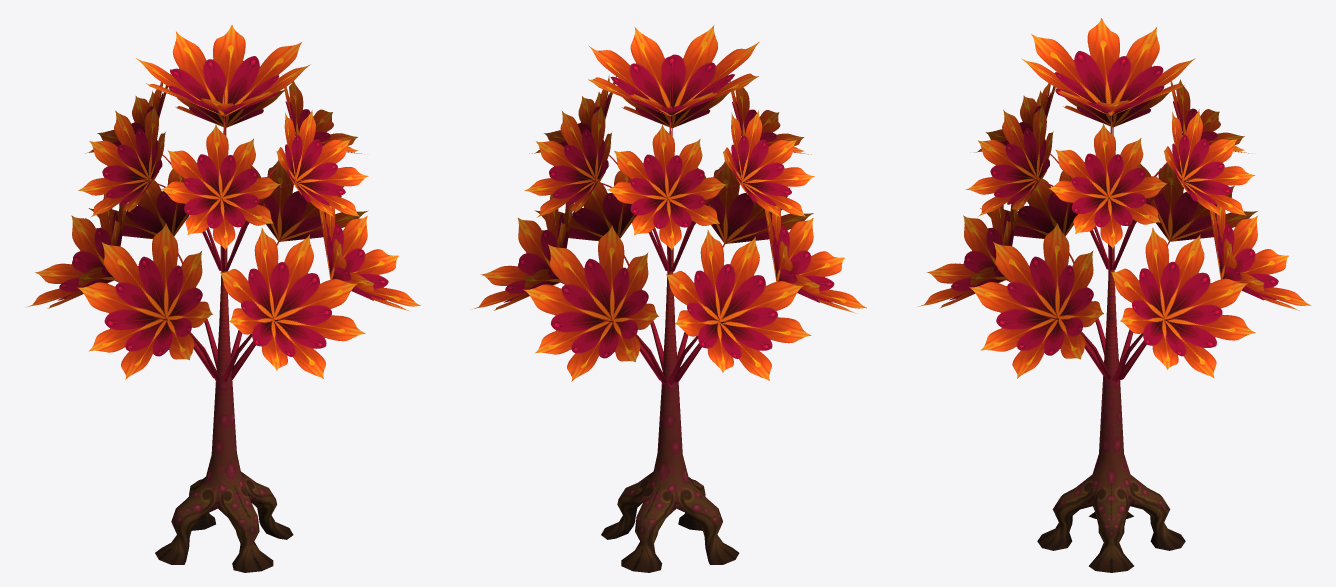
The model's file is Red_Tree_02c.FBX.
The picture shows the model from 3 angles, left to right: view 1: azimuth 30°, elevation 25°; view 2: azimuth 150°, elevation 25°; view 3: azimuth 270°, elevation 25°; orthographic projection.
Visible parts, largest first — view 1: Red_Tree_02c; view 2: Red_Tree_02c; view 3: Red_Tree_02c.
Part boxes in pixels (x1,y1,x2,y2): Red_Tree_02c: [26, 25, 420, 572]; Red_Tree_02c: [472, 25, 866, 572]; Red_Tree_02c: [918, 18, 1311, 572].
Size of the model in its own units: 250 by 342 by 266.
